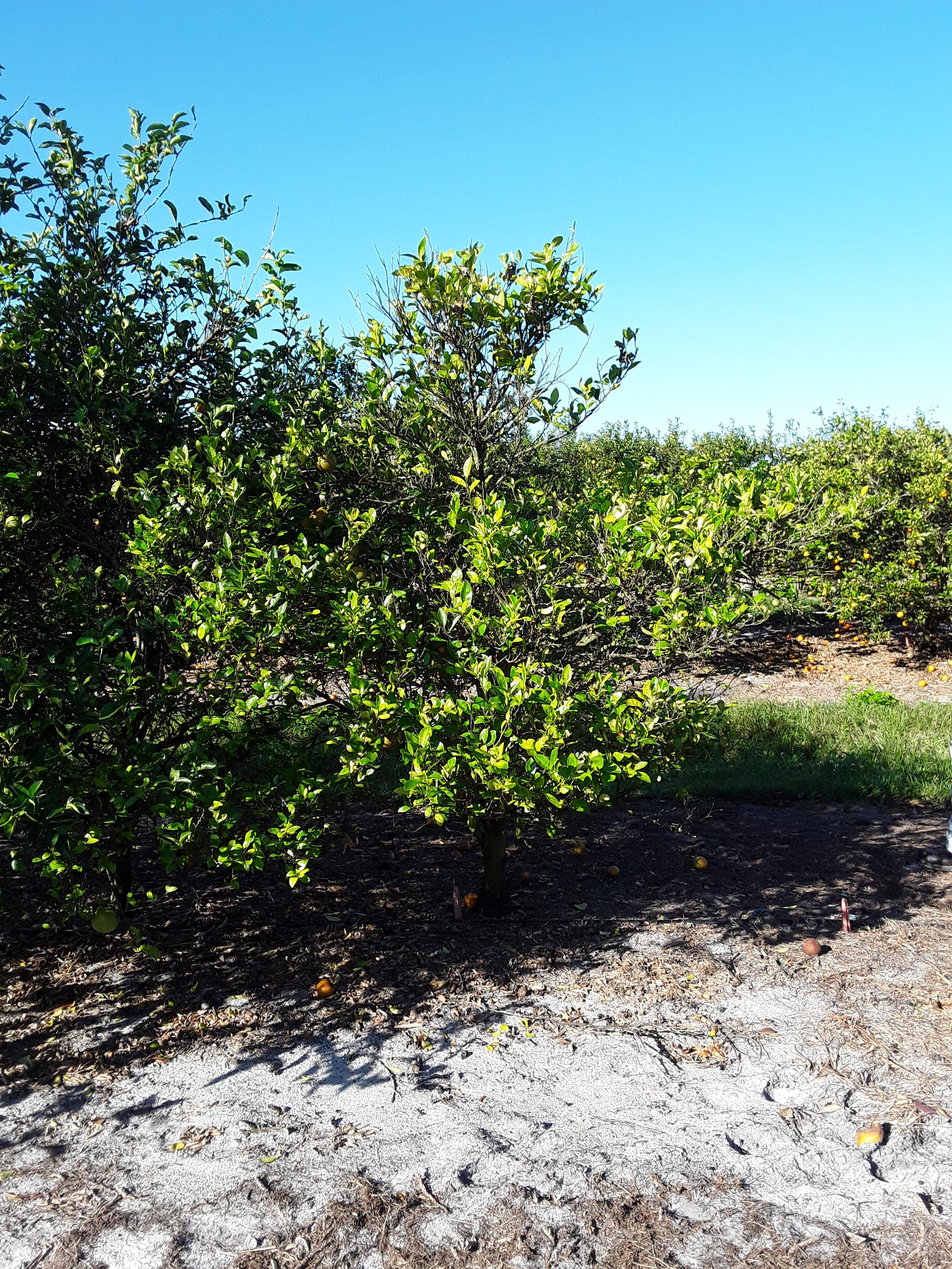fruit_on_ground: (85, 905, 124, 935), (374, 729, 401, 754), (312, 448, 337, 475), (309, 506, 331, 526), (771, 596, 782, 607), (894, 610, 904, 619), (906, 557, 916, 566), (926, 494, 935, 504), (938, 489, 947, 498), (901, 619, 909, 628), (834, 564, 842, 572), (849, 601, 858, 608), (864, 552, 871, 560)
fruit_on_tree: (854, 1125, 883, 1157), (311, 976, 340, 1000), (802, 936, 821, 958), (460, 891, 479, 909), (694, 854, 705, 869), (609, 866, 621, 879), (574, 841, 587, 853), (520, 870, 530, 881), (940, 673, 949, 681), (919, 678, 926, 687), (928, 665, 936, 672), (796, 634, 804, 641), (853, 635, 860, 642), (844, 674, 852, 680), (804, 664, 810, 671), (835, 633, 841, 639), (834, 627, 840, 633)
